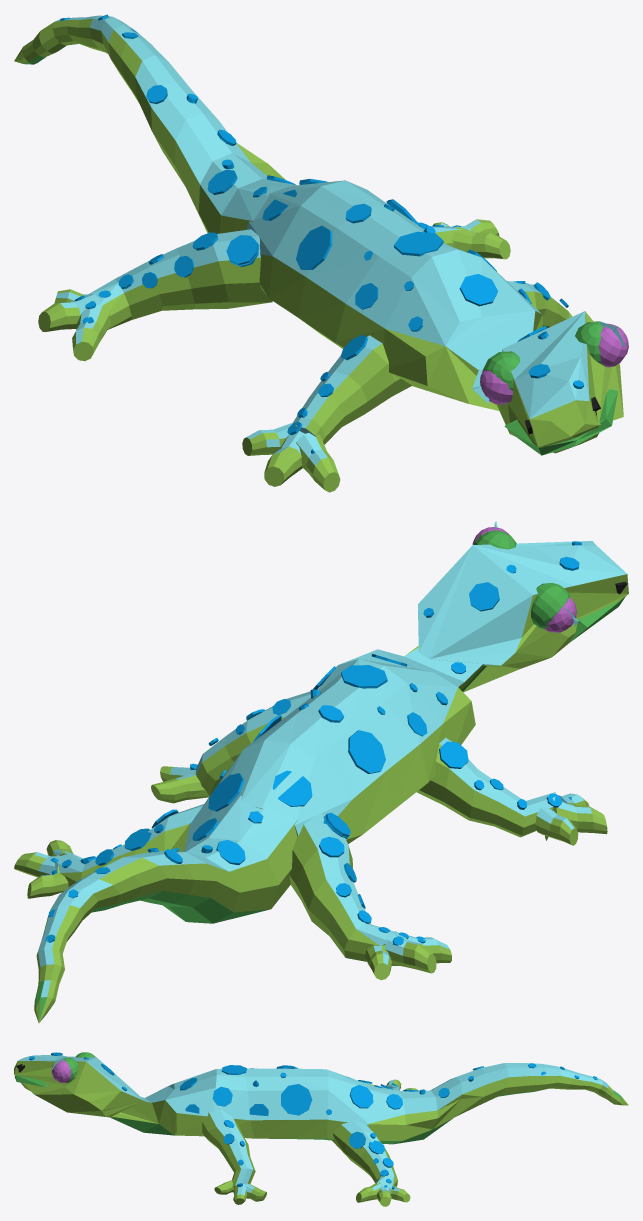
File: Spotted Gecko.glb
The picture shows the model from 3 angles, top to bottom: view 1: azimuth 30°, elevation 25°; view 2: azimuth 150°, elevation 25°; view 3: azimuth 270°, elevation 25°; orthographic projection. The views are drawn at different scales.
Parts seen in each view (by area): view 1: group1754880393, group1022293, group1377573034, group1296609596, group1845554438, group711366411, group2129086338, group1296965314, group479573331, group647629294, group1239171362, group1582375093 (+9 smaller); view 2: group1754880393, group1022293, group1377573034, group1296609596, group1845554438, group259872410, group366480076, group1239171362, group1582375093, group445268437, group479573331, group2079913489 (+7 smaller); view 3: group1754880393, group1022293, group1377573034, group259872410, group366480076, group213631755, group579269495, group521616420, group647629294, group1838117857, group506718119, group55107064 (+1 smaller).
Part boxes in pixels (box(x1,y1,x2,y2)): group1754880393: box(246, 180, 542, 410); group1022293: box(14, 15, 296, 233); group1377573034: box(496, 311, 623, 453); group1296609596: box(89, 229, 272, 329); group1845554438: box(292, 335, 411, 444); group711366411: box(296, 431, 340, 492); group2129086338: box(72, 304, 111, 361); group1296965314: box(504, 389, 617, 455); group479573331: box(264, 431, 304, 486); group647629294: box(451, 226, 510, 259); group1239171362: box(38, 294, 100, 331); group1582375093: box(296, 225, 332, 269); group1754880393: box(191, 646, 486, 843); group1022293: box(34, 795, 297, 1023); group1377573034: box(418, 540, 628, 692); group1296609596: box(289, 813, 392, 961); group1845554438: box(416, 737, 555, 840); group259872410: box(151, 689, 318, 803); group366480076: box(54, 804, 203, 886); group1239171362: box(385, 931, 436, 973); group1582375093: box(348, 730, 385, 773); group445268437: box(531, 583, 570, 628); group479573331: box(553, 801, 607, 834); group2079913489: box(535, 806, 578, 845); group1754880393: box(110, 1068, 370, 1140); group1022293: box(367, 1063, 628, 1144); group1377573034: box(14, 1055, 143, 1117); group259872410: box(202, 1109, 266, 1204); group366480076: box(331, 1120, 397, 1187); group213631755: box(281, 1084, 312, 1115); group579269495: box(349, 1085, 373, 1108); group521616420: box(51, 1060, 71, 1082); group647629294: box(356, 1182, 381, 1202); group1838117857: box(212, 1087, 232, 1106); group506718119: box(376, 1185, 391, 1206); group55107064: box(389, 1185, 410, 1202).
Size of the model in its own units: 0.9291 by 0.3884 by 2.1.
